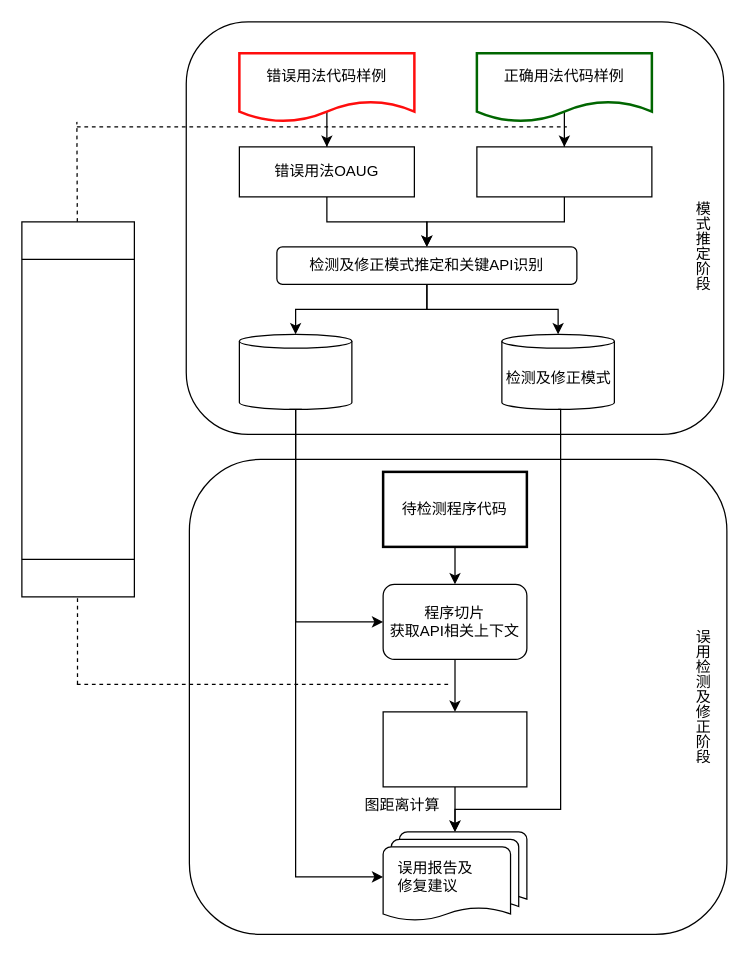
The diagram is 749 pixels wide and 956 high, and some of its shapes have lost their labels. The shapes that lost their labels are listed below. From the top down, each one's box as (x1, y1, x2, y2) in pixels, then its label:
(476, 146, 652, 197): 正确用法OAUG
(238, 333, 352, 409): 关键API
(21, 221, 134, 597): OAUG图生成
(382, 711, 527, 787): 待检测代码OAUG
